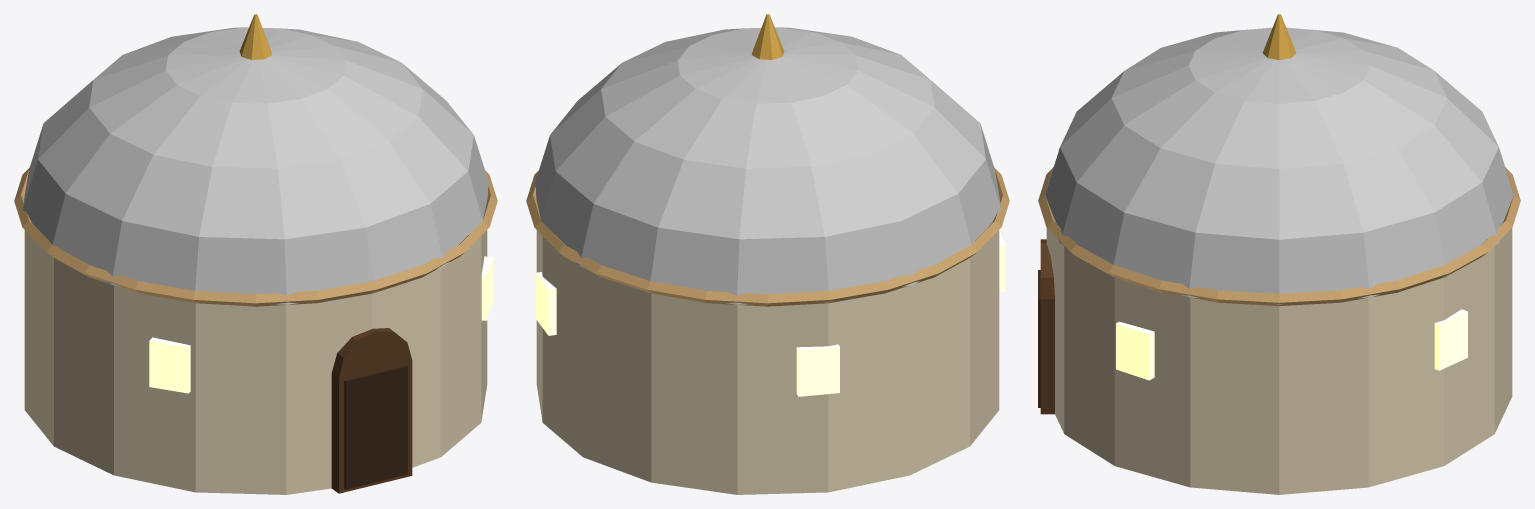
The model's file is map3_house_sand_b_v01.glb.
3 renders of one model, left to right at view 1: azimuth 30°, elevation 25°; view 2: azimuth 150°, elevation 25°; view 3: azimuth 270°, elevation 25°, orthographic.
Parts seen in each view (by area): view 1: house_sand_b; view 2: house_sand_b; view 3: house_sand_b.
Part boxes in pixels (left/top/right/bottom): house_sand_b: left=14, top=14, right=497, bottom=494; house_sand_b: left=526, top=14, right=1009, bottom=494; house_sand_b: left=1038, top=14, right=1520, bottom=494.
Size of the model in its own units: 5.7 by 4.97 by 5.7.
